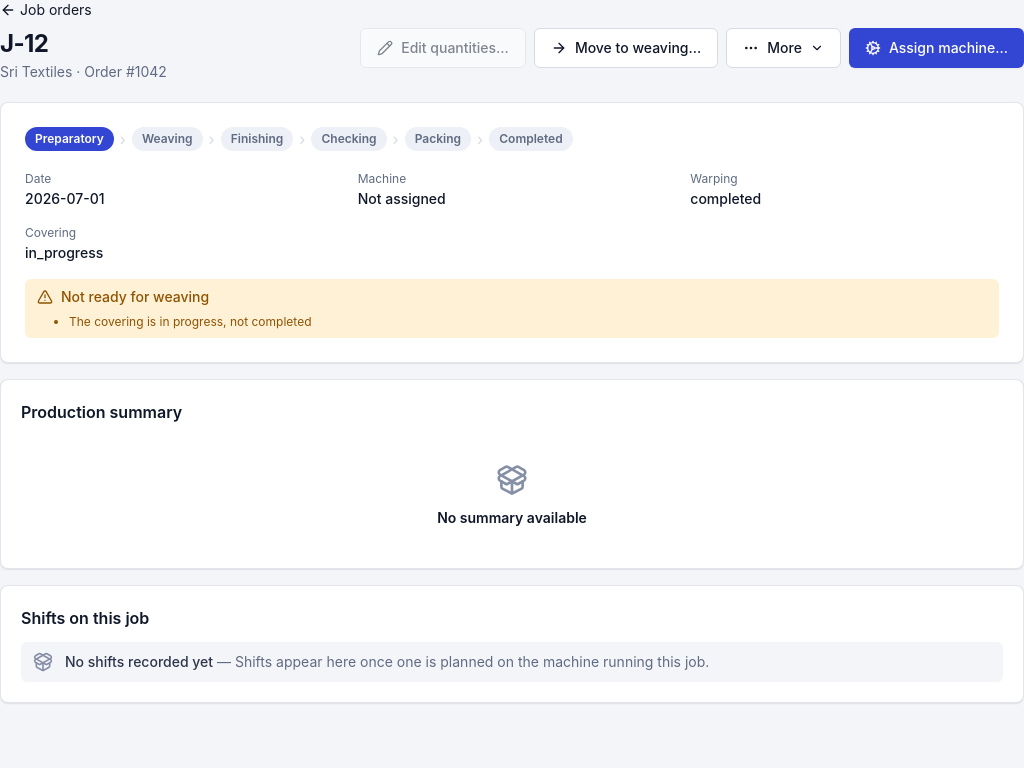
moving a preparatory job to weaving › still toasts an unrelated failure rather than opening the readiness alert
Click the button "Move to weaving…".
click(626, 48)  # box x1=534 y1=28 x2=718 y2=68
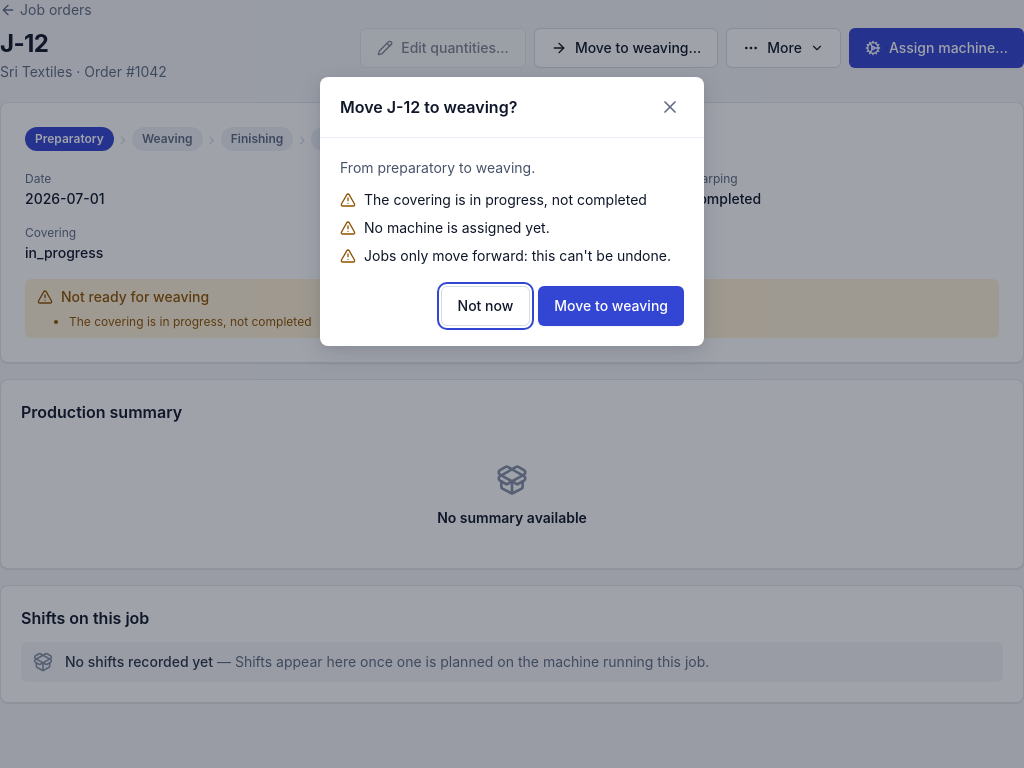
Click the button "Move to weaving".
click(611, 306)  # box x1=538 y1=286 x2=684 y2=326
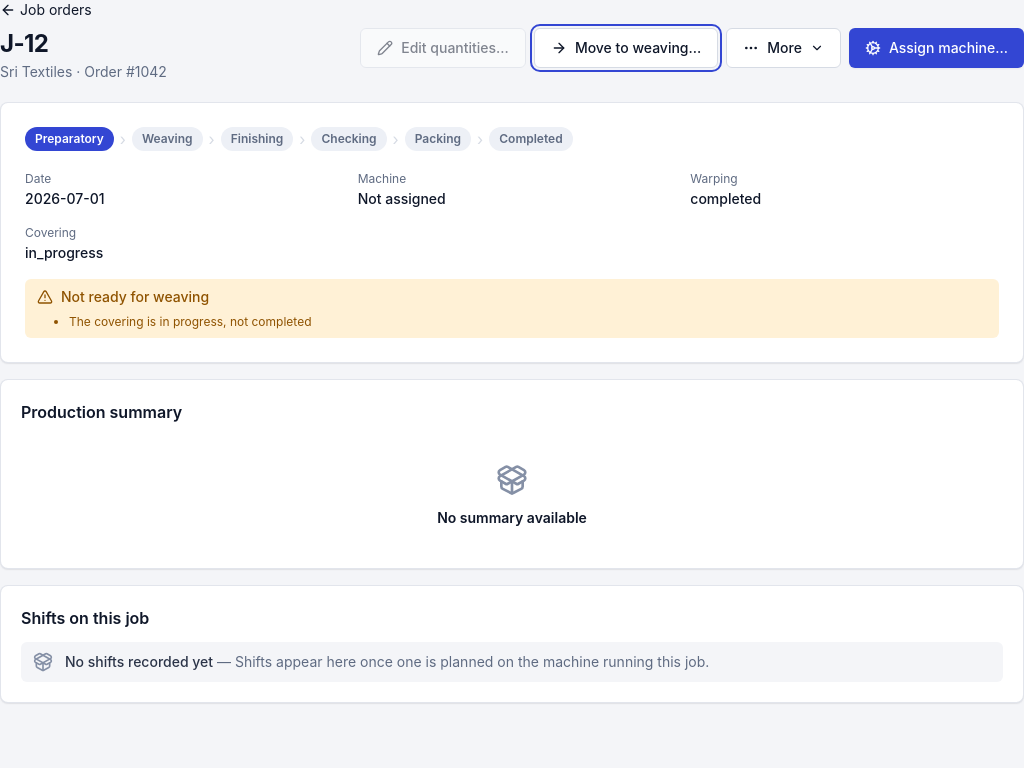
Expected: the dialog is gone
